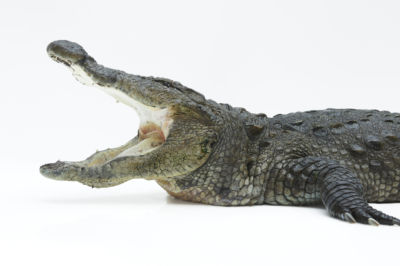Crocodile: (36, 40, 400, 230)
